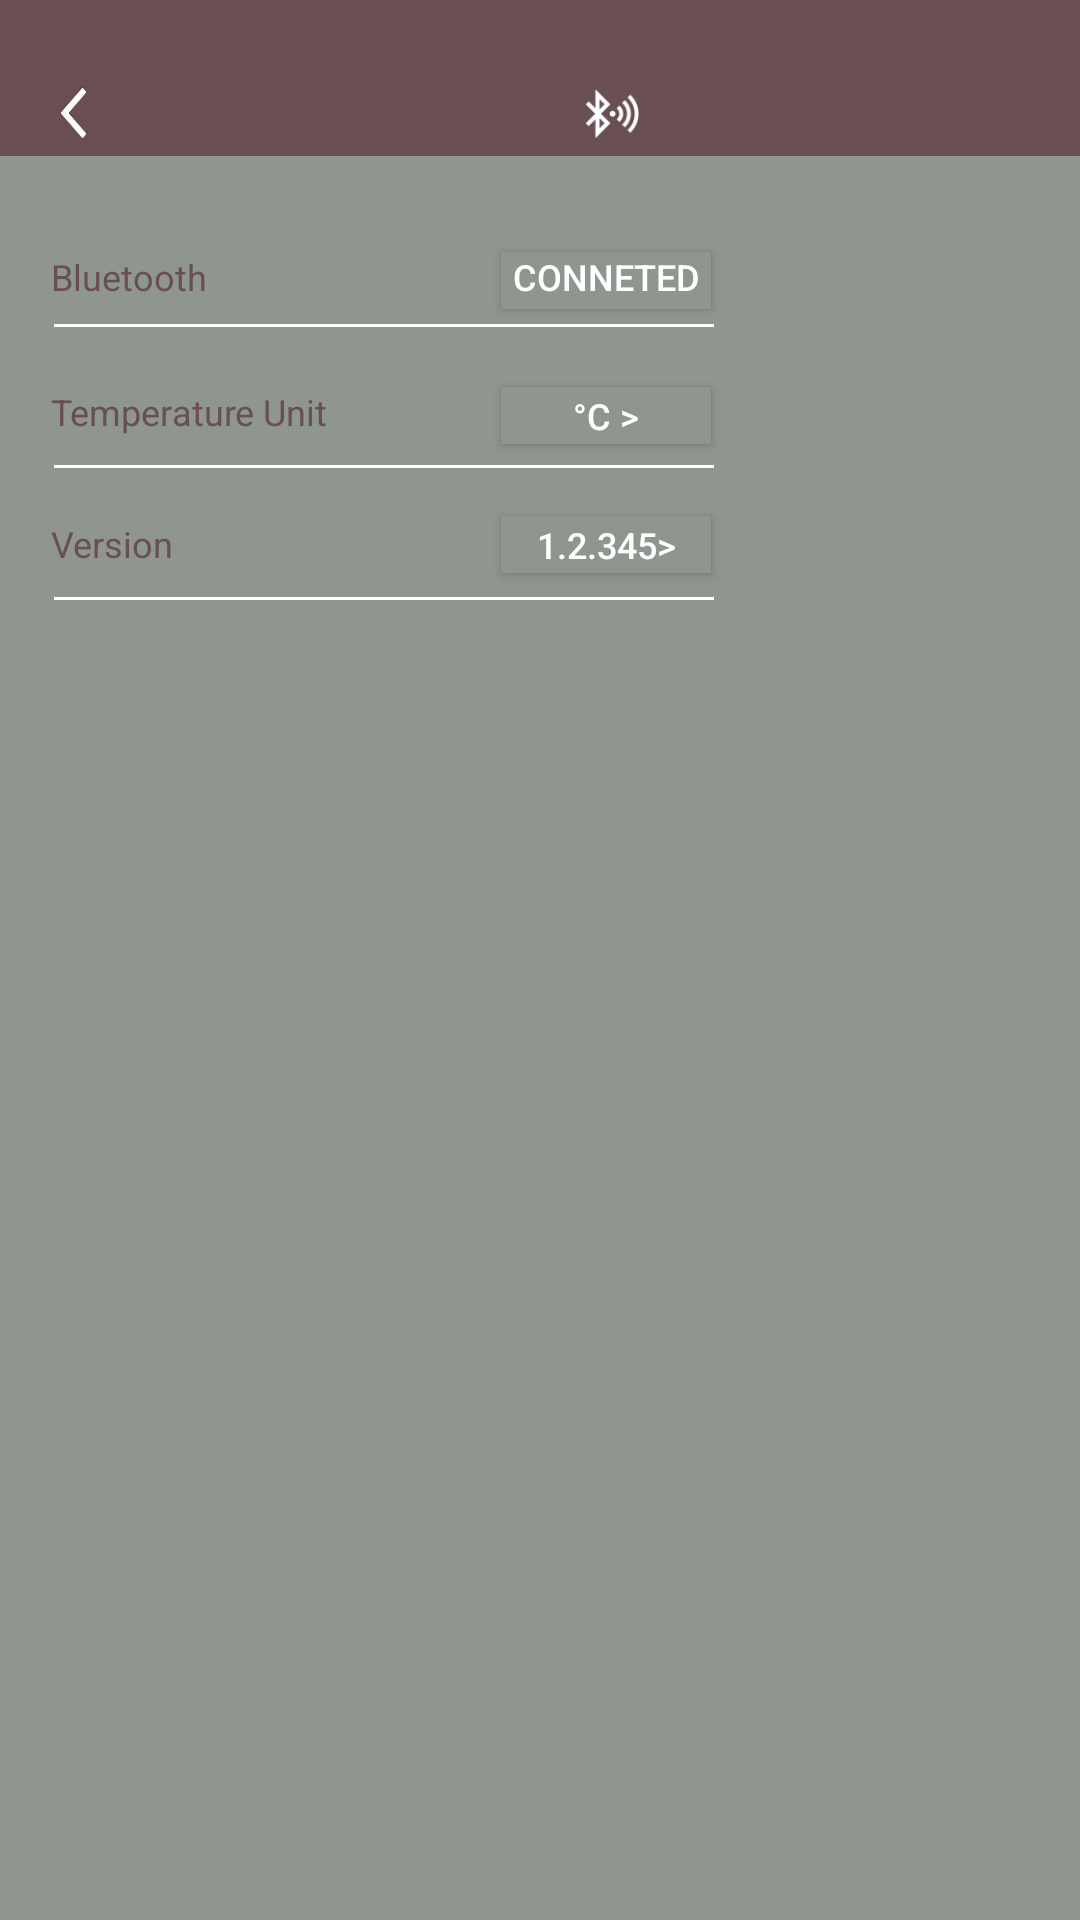

Named icons in this screenshot (1080×1920) and their centers, [x,y]:
back: [73,112]
